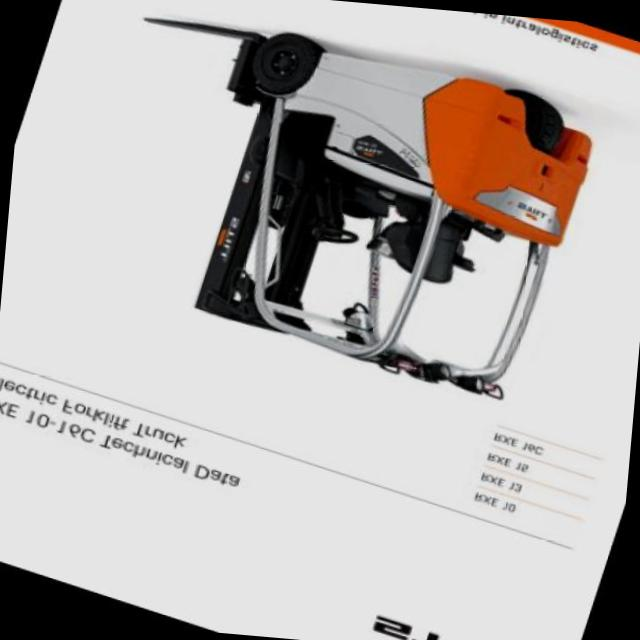forklift: (128, 0, 627, 431)
